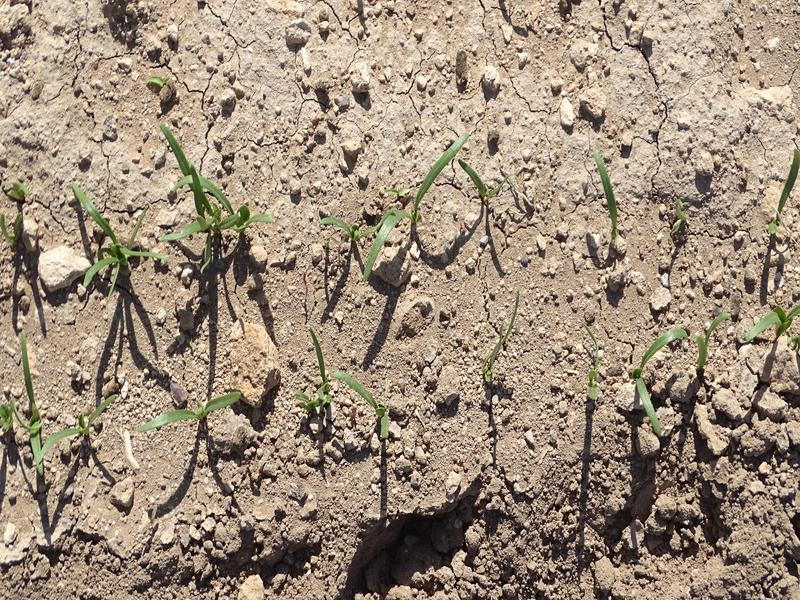Espinaca: (360, 134, 469, 273), (152, 126, 267, 254), (66, 188, 150, 287), (19, 394, 116, 472), (330, 372, 404, 441), (632, 329, 672, 437), (145, 391, 245, 432), (593, 151, 620, 223), (747, 301, 799, 335), (304, 336, 328, 408)
